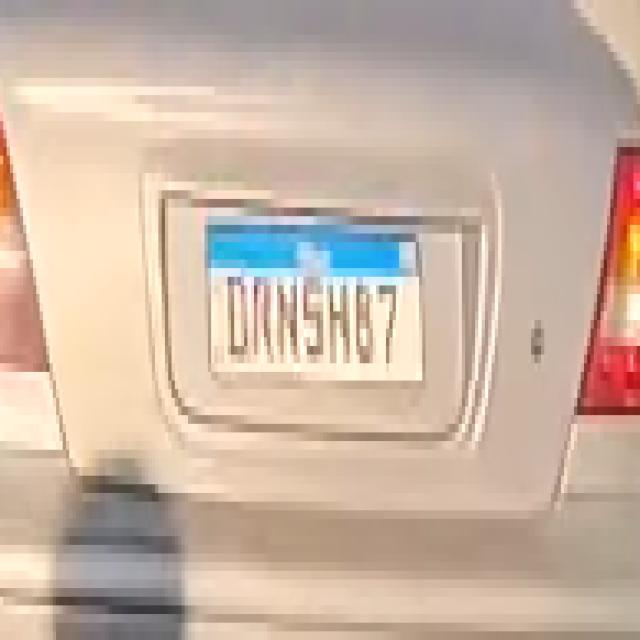Placa_mercosul_carro: (205, 222, 426, 383)
